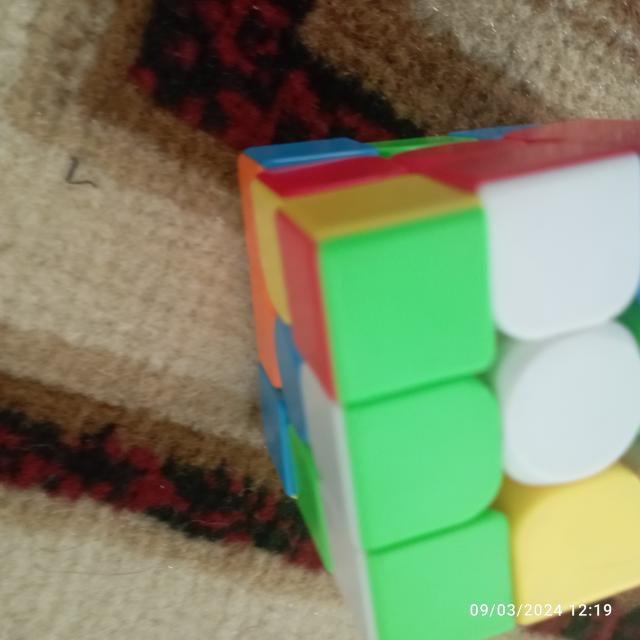Rub: (229, 106, 640, 640)
